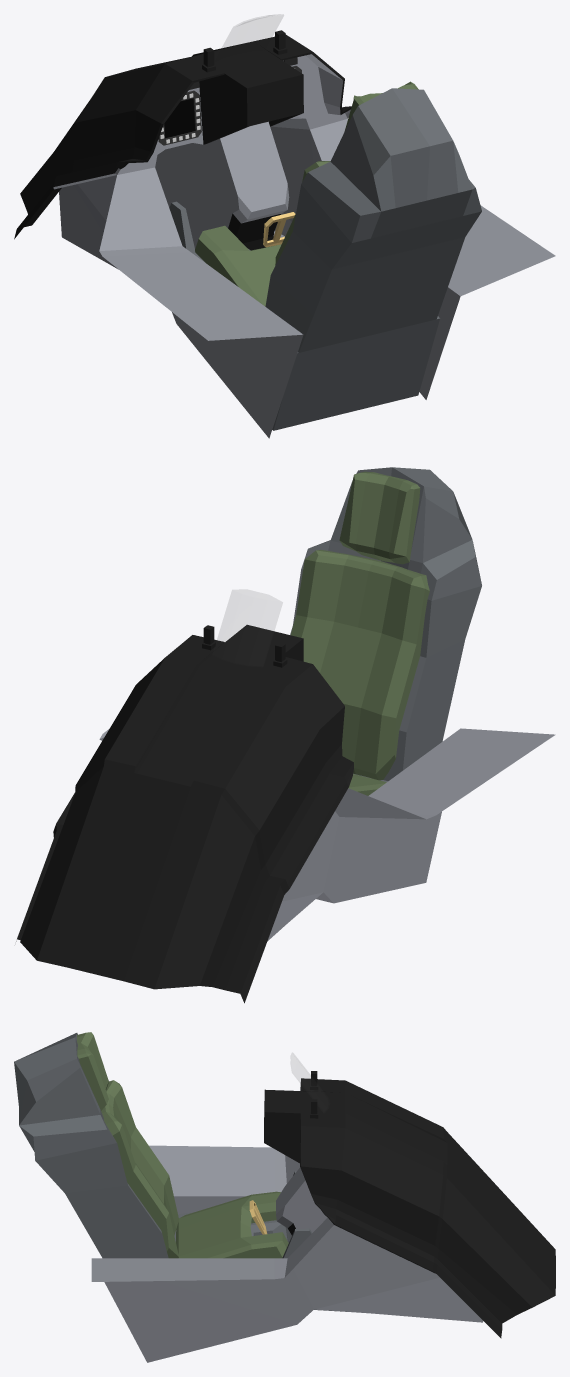
File: Seat.glb
3 renders of one model, top to bottom at view 1: azimuth 30°, elevation 25°; view 2: azimuth 150°, elevation 25°; view 3: azimuth 270°, elevation 25°, orthographic. The views are drawn at different scales.
Parts seen in each view (by area): view 1: MainBody, CushionButt, Glass, mfd-l; view 2: MainBody, CushionButt, Glass; view 3: MainBody, CushionButt, Glass.
Part boxes in pixels (bbox=[...]): MainBody: bbox=[14, 34, 555, 438]; CushionButt: bbox=[169, 81, 481, 430]; Glass: bbox=[215, 15, 283, 60]; mfd-l: bbox=[158, 90, 201, 145]; MainBody: bbox=[16, 624, 555, 1003]; CushionButt: bbox=[290, 467, 481, 795]; Glass: bbox=[213, 590, 282, 665]; MainBody: bbox=[91, 1078, 555, 1362]; CushionButt: bbox=[14, 1032, 346, 1311]; Glass: bbox=[291, 1053, 327, 1111].
Size of the model in its own units: 2.4 by 2.4 by 3.99.
Materials: 52 (1 with a texture image).
